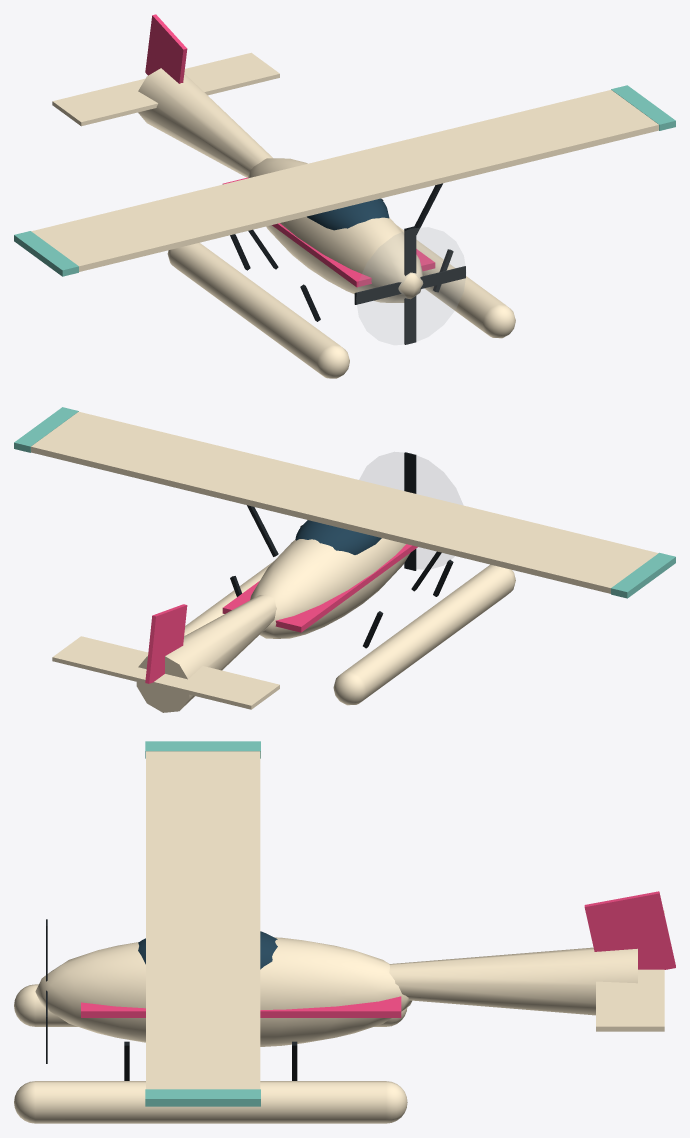
File: floatplane.glb
The picture shows the model from 3 angles, top to bottom: view 1: azimuth 30°, elevation 25°; view 2: azimuth 150°, elevation 25°; view 3: azimuth 270°, elevation 25°; orthographic projection. The views are drawn at different scales.
Visible parts, largest first — view 1: plane paint, prop blur, plane dark, plane stripe, plane trim, plane glass; view 2: plane paint, plane stripe, prop blur, plane trim, plane dark, plane glass; view 3: plane paint, plane stripe, plane trim, plane dark, plane glass.
Part boxes in pixels (x1=…): plane paint: x1=31, y1=52, x2=658, y2=378; prop blur: x1=356, y1=227, x2=465, y2=344; plane dark: x1=230, y1=183, x2=465, y2=344; plane stripe: x1=145, y1=14, x2=435, y2=287; plane trim: x1=14, y1=85, x2=675, y2=276; plane glass: x1=307, y1=198, x2=389, y2=230; plane paint: x1=31, y1=411, x2=658, y2=712; plane stripe: x1=145, y1=544, x2=417, y2=683; prop blur: x1=359, y1=452, x2=462, y2=568; plane trim: x1=14, y1=407, x2=675, y2=598; plane dark: x1=230, y1=452, x2=453, y2=648; plane glass: x1=295, y1=520, x2=381, y2=554; plane paint: x1=14, y1=751, x2=664, y2=1123; plane stripe: x1=81, y1=891, x2=675, y2=1017; plane trim: x1=145, y1=741, x2=260, y2=1106; plane dark: x1=46, y1=919, x2=297, y2=1080; plane glass: x1=138, y1=931, x2=277, y2=969.
Size of the model in its own units: 11.1 by 2.62 by 8.68.
